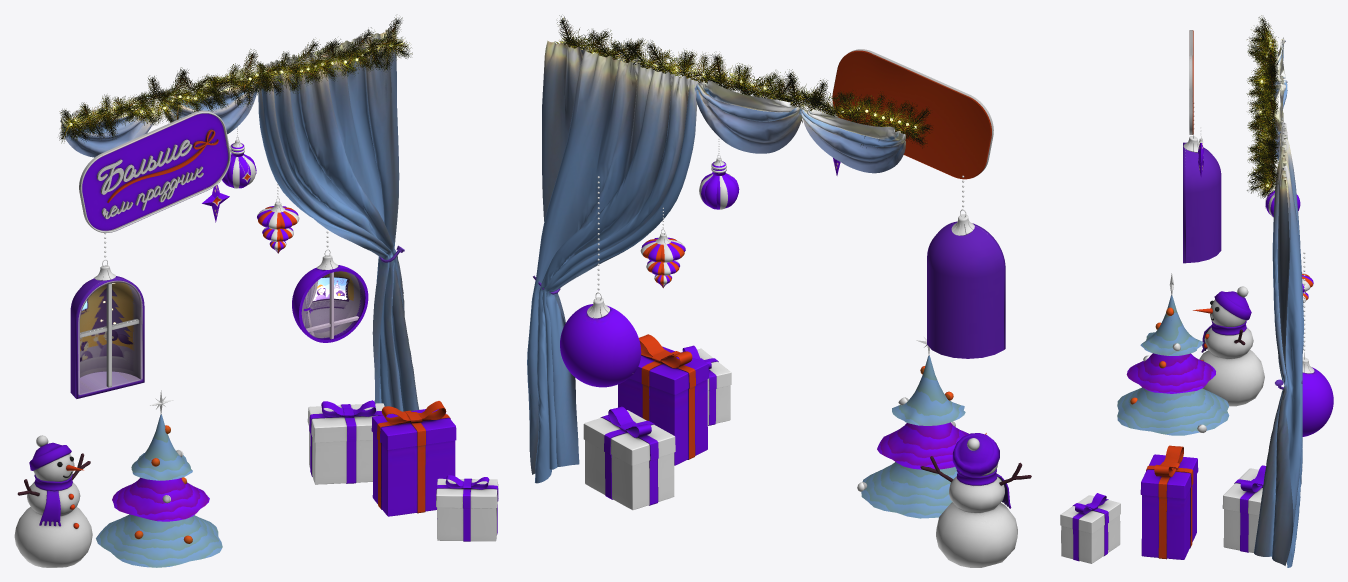
File: rtk2027_v11.glb
3 renders of one model, left to right at view 1: azimuth 30°, elevation 25°; view 2: azimuth 150°, elevation 25°; view 3: azimuth 270°, elevation 25°, orthographic. The views are drawn at different scales.
Visible parts, largest first — view 1: CS_RTK_001, Motto_plank, model_2.012, Cylinder.004, Plane.006, RTK_box_001.001, snowman, RTK_box_001.002, RTK_box_001.006, Circle.002, RTK_ball_003, RTK_ball_001 (+1 smaller); view 2: CS_RTK_001, Motto_plank, Plane.006, Cylinder.004, model_2.012, snowman, RTK_box_001.002, RTK_box_001.001, Circle.002, RTK_box_001.006, RTK_ball_003, RTK_ball_001; view 3: CS_RTK_001, Cylinder.004, RTK_box_001.001, snowman, model_2.012, Plane.006, RTK_box_001.006, RTK_box_001.002, Circle.002, Motto_plank.
Boxes of the visible parts, bbox=[...] form: CS_RTK_001: bbox=[60, 28, 419, 414]; Motto_plank: bbox=[79, 110, 230, 232]; model_2.012: bbox=[59, 17, 412, 143]; Cylinder.004: bbox=[96, 390, 222, 567]; Plane.006: bbox=[70, 276, 144, 398]; RTK_box_001.001: bbox=[371, 401, 456, 516]; snowman: bbox=[14, 435, 92, 567]; RTK_box_001.002: bbox=[307, 400, 384, 484]; RTK_box_001.006: bbox=[436, 475, 498, 541]; Circle.002: bbox=[292, 265, 368, 342]; RTK_ball_003: bbox=[257, 184, 299, 253]; RTK_ball_001: bbox=[222, 126, 256, 188]; CS_RTK_001: bbox=[527, 40, 905, 483]; Motto_plank: bbox=[832, 49, 993, 179]; Plane.006: bbox=[927, 221, 1005, 358]; Cylinder.004: bbox=[857, 336, 968, 518]; model_2.012: bbox=[554, 15, 933, 148]; snowman: bbox=[920, 433, 1031, 567]; RTK_box_001.002: bbox=[583, 406, 675, 510]; RTK_box_001.001: bbox=[618, 334, 708, 465]; Circle.002: bbox=[560, 304, 641, 387]; RTK_box_001.006: bbox=[681, 345, 731, 425]; RTK_ball_003: bbox=[640, 207, 685, 288]; RTK_ball_001: bbox=[699, 138, 739, 209]; CS_RTK_001: bbox=[1254, 37, 1303, 567]; Cylinder.004: bbox=[1117, 273, 1229, 435]; RTK_box_001.001: bbox=[1140, 445, 1198, 559]; snowman: bbox=[1193, 286, 1264, 406]; model_2.012: bbox=[1246, 15, 1278, 198]; Plane.006: bbox=[1183, 142, 1221, 263]; RTK_box_001.006: bbox=[1060, 493, 1120, 563]; RTK_box_001.002: bbox=[1222, 465, 1265, 552]; Circle.002: bbox=[1302, 367, 1333, 436]; Motto_plank: bbox=[1189, 30, 1193, 134].
Bounding box in the file's own units: 2.89 × 2.82 × 1.73.
17 materials, 11 textured.
